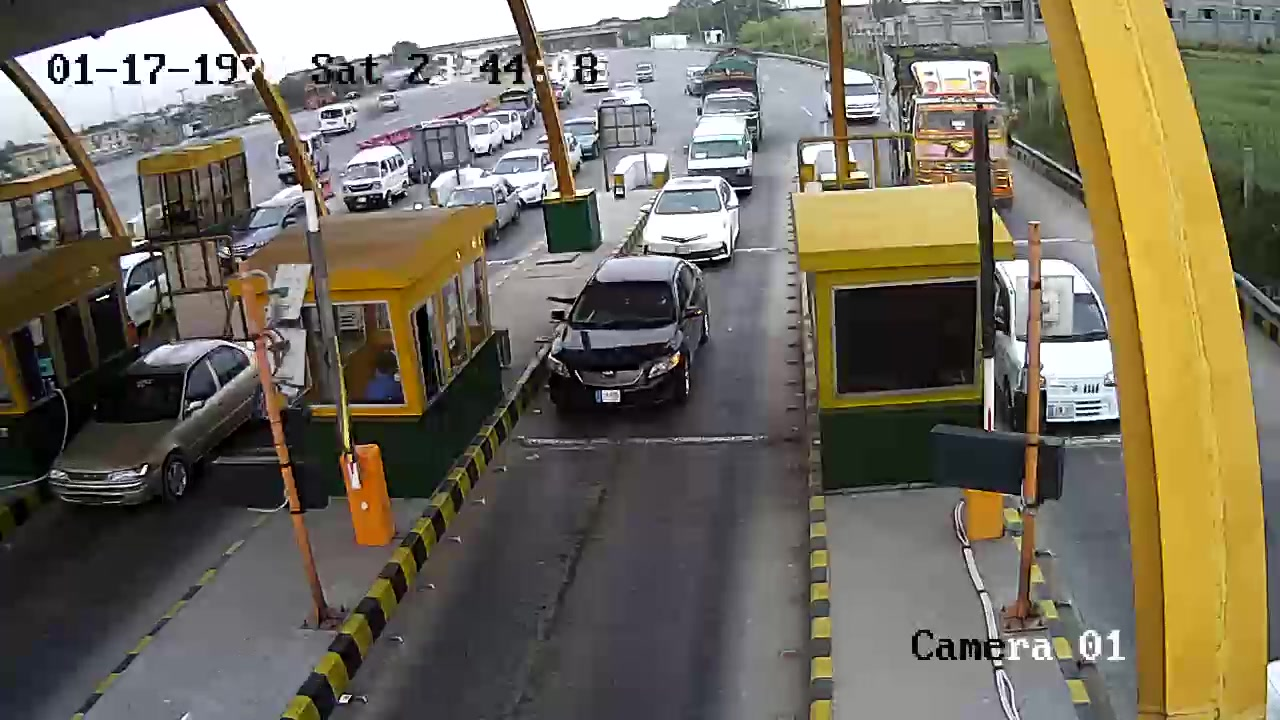F1: (544, 259, 723, 428)
